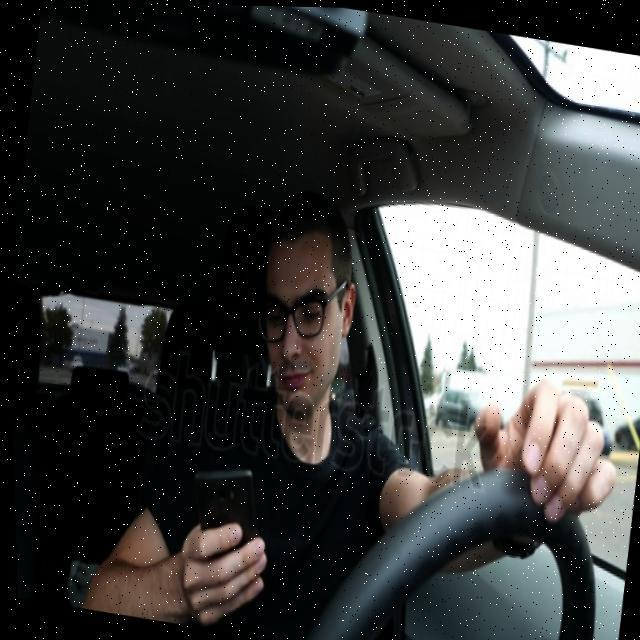PhoneCall: (175, 458, 265, 602)
